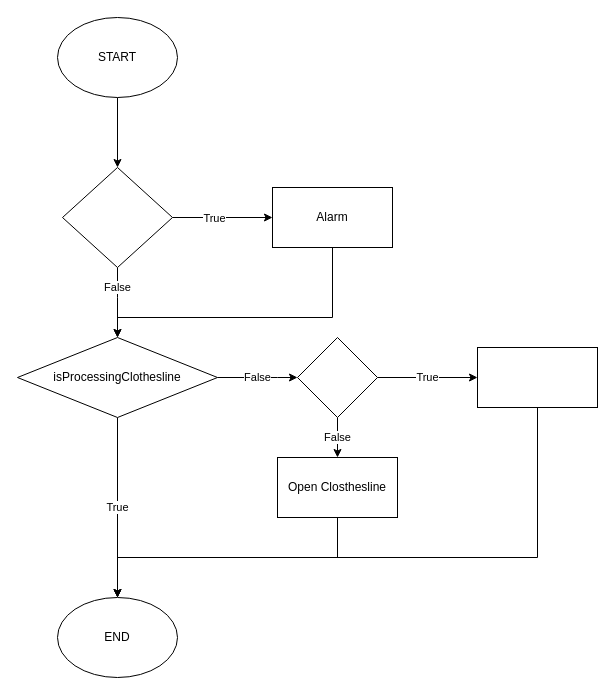
Image size: 615x695. Some labels were removed from this diagram. Each missing label, with the box of its shape:
Close Clothesline: (476, 346, 598, 408)
pir sensor ==1 || gas > 43%: (62, 166, 172, 268)
rain >600: (296, 336, 378, 418)
